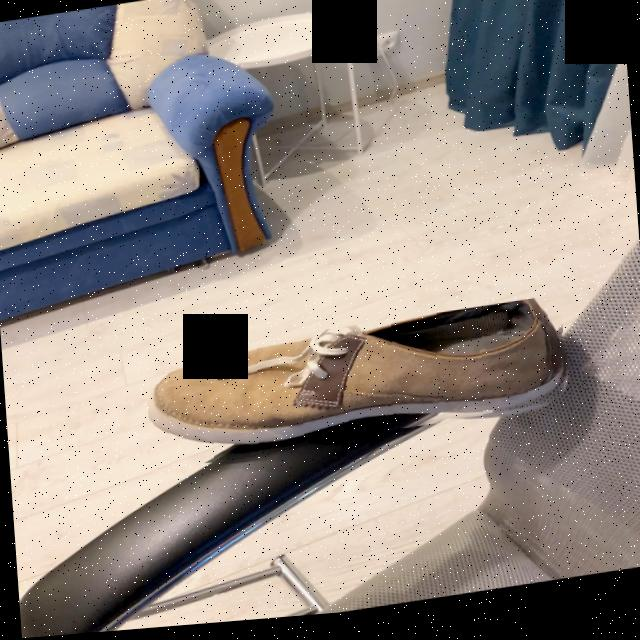shoe: (147, 307, 564, 452)
